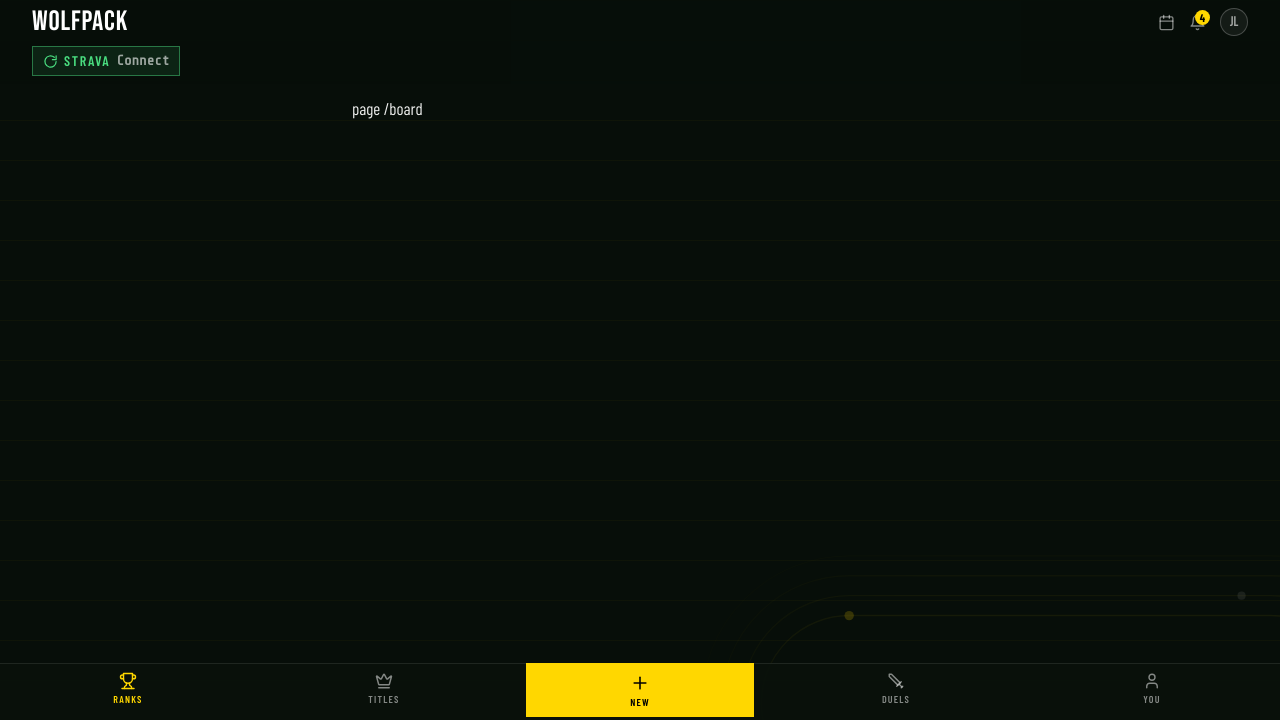
popovern › "See all pack news" går till /news och stänger popovern
What coordinates should you click on to do the following:
click the button "4"
I would click on:
 (1198, 22)
Its box is [1189,14,1206,30].
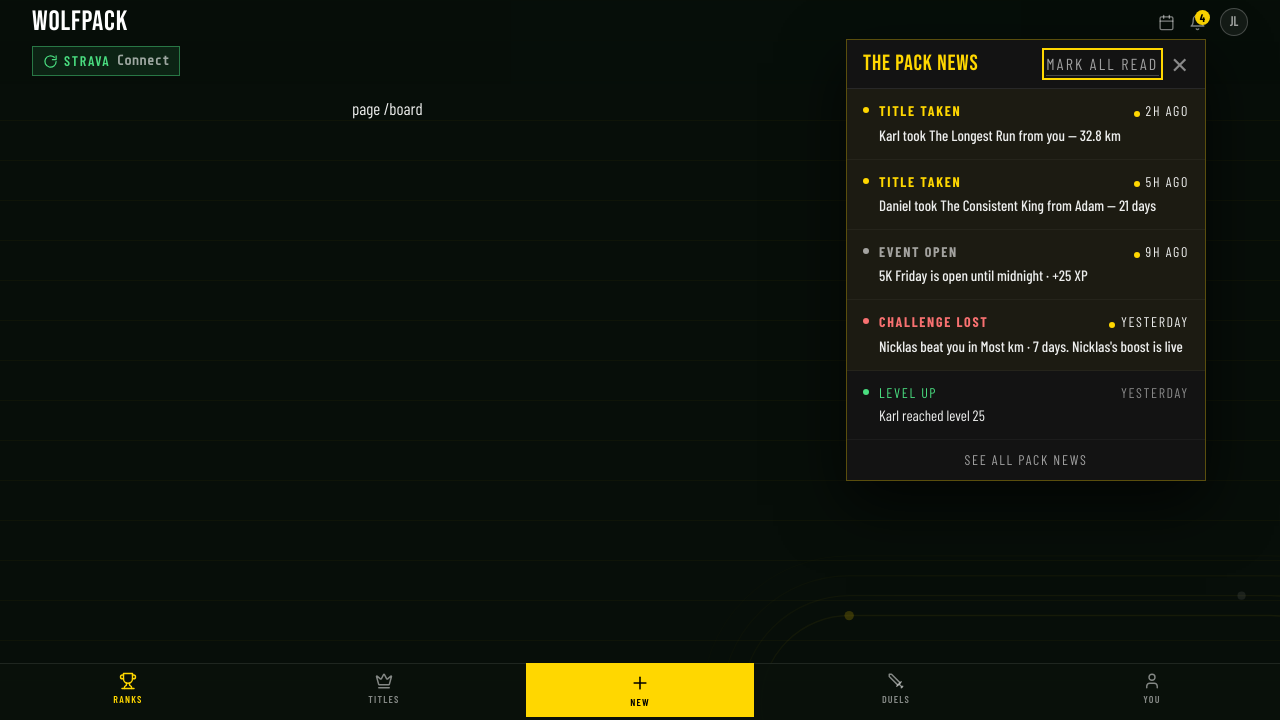
What coordinates should you click on to do the following:
click the link "See all pack news"
I would click on:
 (1026, 459)
Its box is [965,451,1087,468].
(page scrolled)
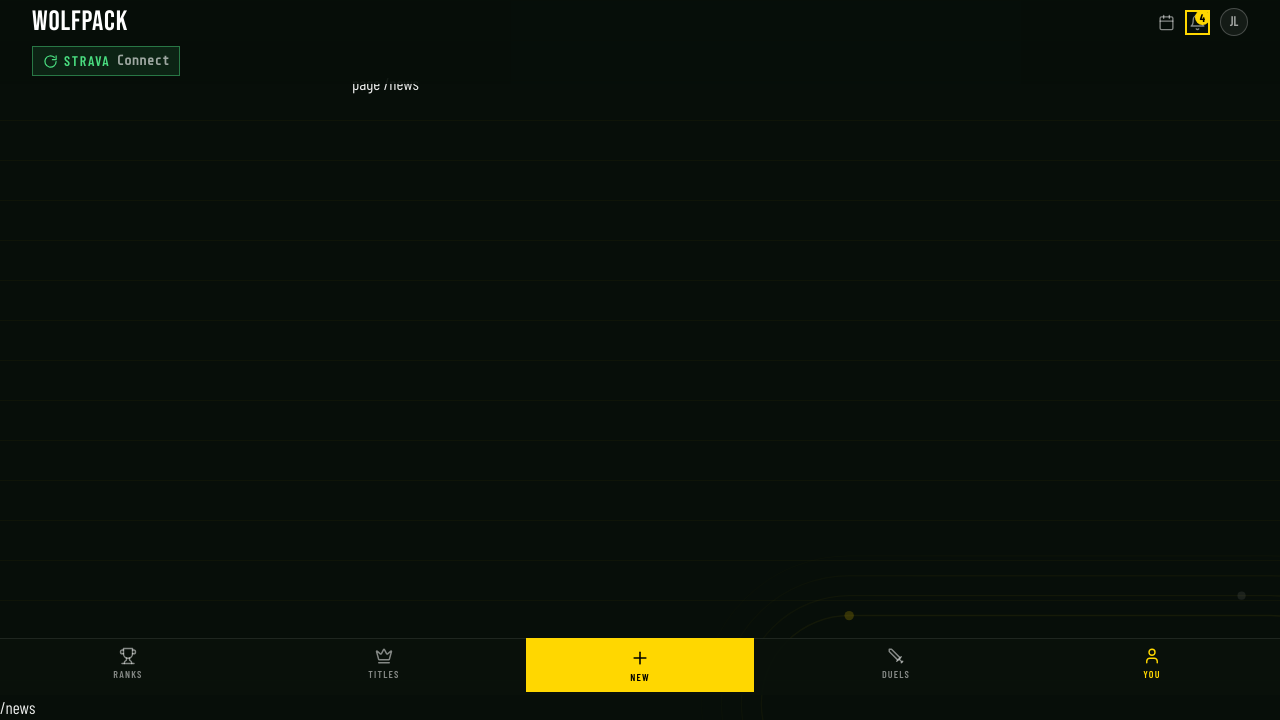
Now the text with test id "location" reads "/news", box [0,697,35,717]
Now the dialog is gone
